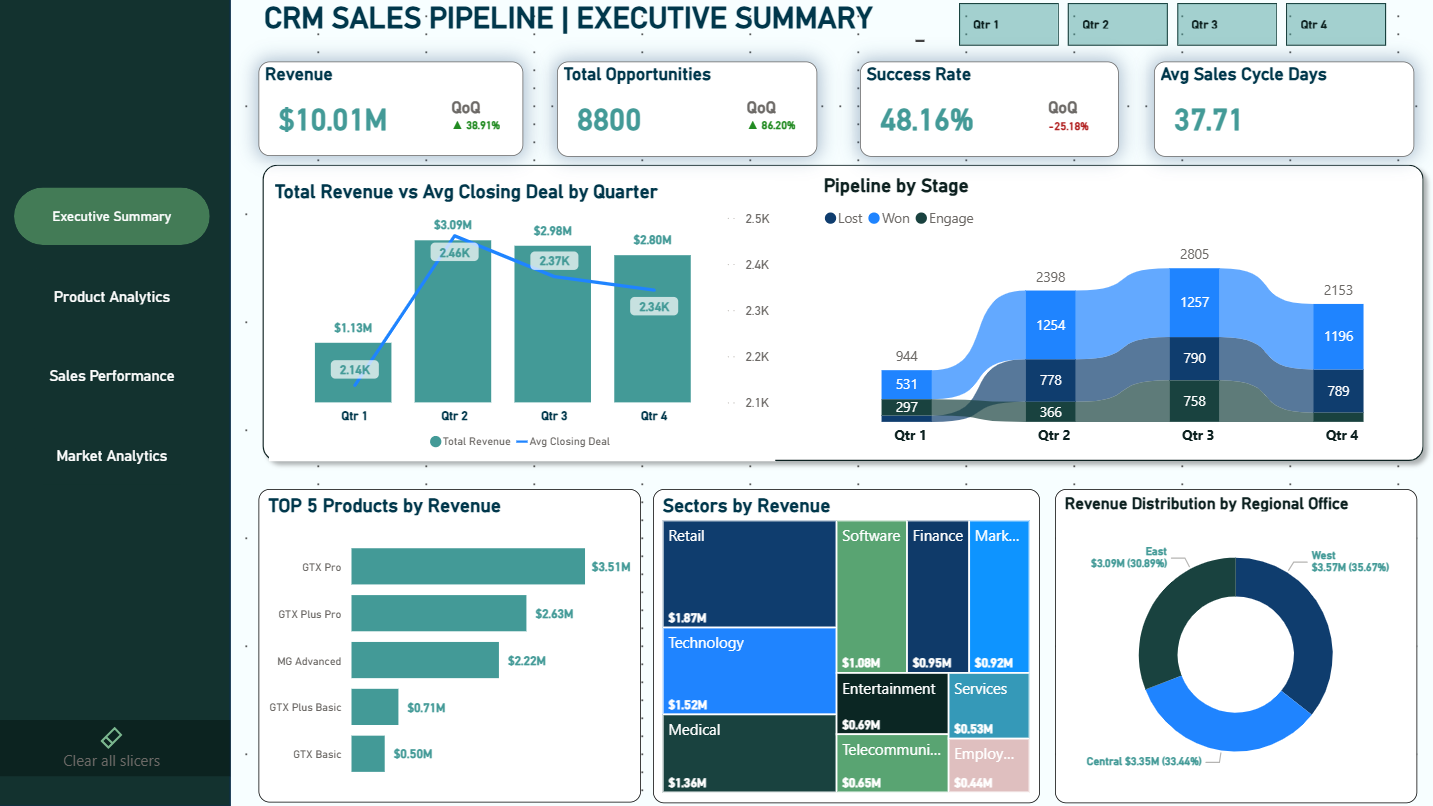

What the dashboard file says about the page in this screenshot:
{"tool":"powerbi","page":{"name":"Executive Summary","canvas":[1280,720],"ordinal":0},"visuals":[{"type":"shape","box":[0,0,211.3,719.7],"z":0,"group":"g1"},{"type":"shape","box":[230,140,1050,281.4],"z":1000},{"type":"pageNavigator","box":[18.3,169,174.6,267.6],"z":1000,"group":"g1"},{"type":"textbox","title":"CRM SALES PIPELINE | EXECUTIVE SUMMARY","box":[236,3,597,42],"z":2000},{"type":"cardVisual","title":"Total Opportunities","fields":{"Data":["CountNonNull(sales_pipeline.deal_stage)"]},"box":[501.3,56.9,231.2,84.4],"z":3000},{"type":"cardVisual","title":"Revenue","fields":{"Data":["sales_pipeline.Total Revenue"]},"box":[235.8,56.7,235,84],"z":4000},{"type":"cardVisual","title":"Success Rate","fields":{"Data":["sales_pipeline.Success Rate"]},"box":[770.1,56.9,229.7,84.4],"z":5000},{"type":"cardVisual","title":"Avg Sales Cycle Days","fields":{"Data":["sales_pipeline.Avg Cycle Days"]},"box":[1032.6,56.9,231.2,84.4],"z":6000},{"type":"clusteredBarChart","title":"TOP 5 Products by Revenue","fields":{"Category":["sales_pipeline.product"],"Y":["sales_pipeline.Total Revenue"]},"box":[235.7,437.1,340,278.6],"z":7000},{"type":"lineClusteredColumnComboChart","title":"Total Revenue vs Avg Closing Deal by Quarter","fields":{"Category":["Calendar.Quarter"],"Y":["sales_pipeline.Total Revenue"],"Y2":["sales_pipeline.Avg Closing Day"]},"box":[245.7,162.9,450,250],"z":8000},{"type":"treemap","title":" Sectors by Revenue","fields":{"Group":["accounts.sector"],"Values":["sales_pipeline.Total Revenue"]},"box":[586,437,344,279],"z":9000},{"type":"ribbonChart","title":"Pipeline by Stage","fields":{"Y":["sales_pipeline.Lost","sales_pipeline.Won","sales_pipeline.Engage"],"Category":["sales_pipeline.Latest Pipeline Date.Variation.Date Hierarchy.Quarter"]},"box":[732.9,157.1,547.1,250],"z":10000},{"type":"donutChart","title":"Revenue Distribution by Regional Office","fields":{"Y":["sales_pipeline.Total Revenue"],"Category":["sales_teams.regional_office"]},"box":[944,437,322,279],"z":11000},{"type":"advancedSlicerVisual","fields":{"Values":["Calendar.Quarter"]},"box":[832.8,0,432.8,48.4],"z":12000},{"type":"actionButton","box":[0,643,211,50],"z":14501,"group":"g1"},{"type":"group","id":"g1","title":"Group 1","box":[0,0,211.3,719.7],"z":14502}]}

Visuals, with their boxes on the page's 1280x720 design canvas (x1, y1, x2, y2). These are canvas units, not pixel positions in the 1433x806 screenshot, which may show the page scaled, cropped or inside an application window:
shape: locate(0, 0, 211, 720)
shape: locate(230, 140, 1280, 421)
pageNavigator: locate(18, 169, 193, 437)
"CRM SALES PIPELINE | EXECUTIVE SUMMARY" textbox: locate(236, 3, 833, 45)
"Total Opportunities" cardVisual: locate(501, 57, 732, 141)
"Revenue" cardVisual: locate(236, 57, 471, 141)
"Success Rate" cardVisual: locate(770, 57, 1000, 141)
"Avg Sales Cycle Days" cardVisual: locate(1033, 57, 1264, 141)
"TOP 5 Products by Revenue" clusteredBarChart: locate(236, 437, 576, 716)
"Total Revenue vs Avg Closing Deal by Quarter" lineClusteredColumnComboChart: locate(246, 163, 696, 413)
" Sectors by Revenue" treemap: locate(586, 437, 930, 716)
"Pipeline by Stage" ribbonChart: locate(733, 157, 1280, 407)
"Revenue Distribution by Regional Office" donutChart: locate(944, 437, 1266, 716)
advancedSlicerVisual - Calendar.Quarter: locate(833, 0, 1266, 48)
actionButton: locate(0, 643, 211, 693)
"Group 1" group: locate(0, 0, 211, 720)
